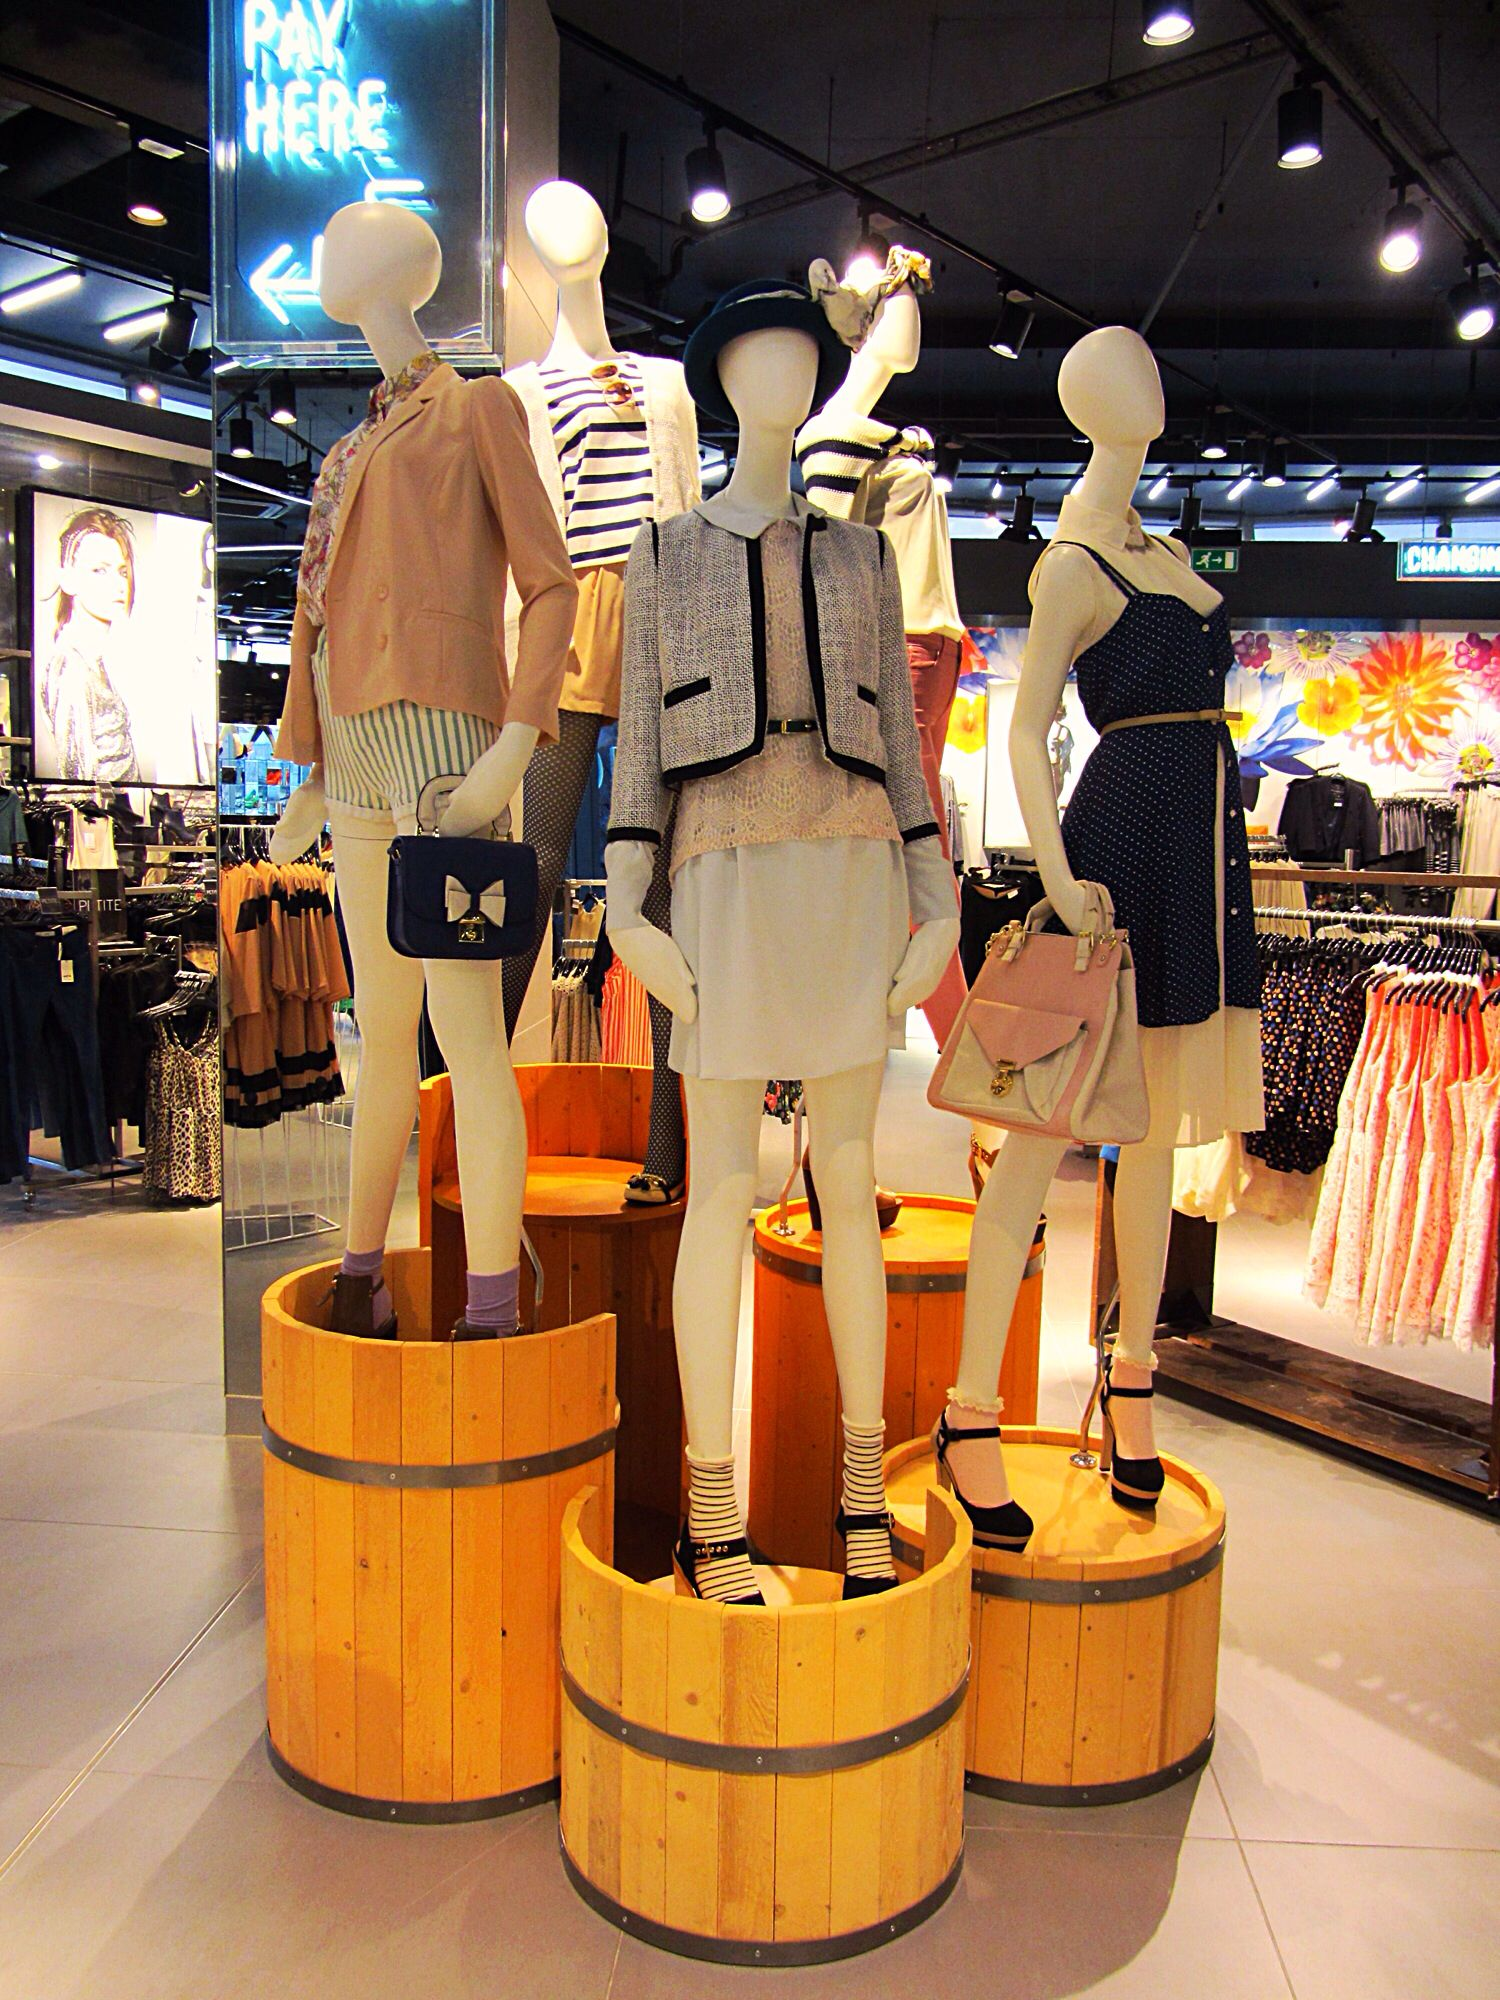person-like: (591, 268, 976, 1629), (923, 320, 1278, 1566), (263, 181, 604, 1344), (478, 166, 717, 1213), (793, 237, 980, 805)
